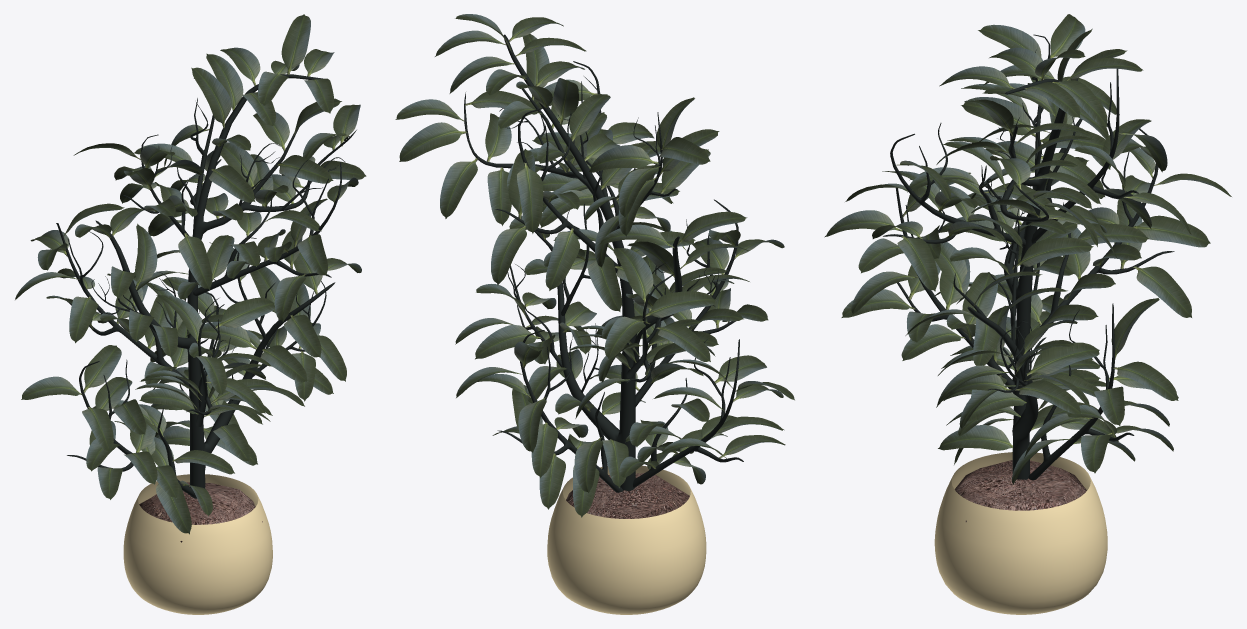
The model's file is plant.glb.
The picture shows the model from 3 angles, left to right: view 1: azimuth 30°, elevation 25°; view 2: azimuth 150°, elevation 25°; view 3: azimuth 270°, elevation 25°; orthographic projection. The views are drawn at different scales.
Visible parts, largest first — view 1: Object_10, Object_8, Object_3, Object_9, Object_7, Object_4, Object_5, Object_2, Object_6, Object_11; view 2: Object_9, Object_3, Object_10, Object_7, Object_8, Object_4, Object_2, Object_6, Object_5, Object_11; view 3: Object_3, Object_10, Object_7, Object_8, Object_9, Object_4, Object_2, Object_5, Object_11.
Part boxes in pixels (x1,y1,x2,y2): Object_10: (89,14,341,534); Object_8: (15,198,361,471); Object_3: (123,474,272,614); Object_9: (73,104,366,516); Object_7: (21,242,346,498); Object_4: (56,74,356,498); Object_5: (91,159,341,400); Object_2: (139,482,262,542); Object_6: (67,143,344,496); Object_11: (93,60,299,466); Object_9: (395,79,766,469); Object_3: (547,465,706,614); Object_10: (435,14,785,484); Object_7: (455,215,794,517); Object_8: (532,122,784,433); Object_4: (464,34,738,492); Object_2: (566,473,689,518); Object_6: (499,108,743,487); Object_5: (507,61,718,392); Object_11: (449,56,709,478); Object_3: (934,452,1107,614); Object_10: (824,28,1167,464); Object_7: (905,207,1178,484); Object_8: (845,83,1231,340); Object_9: (895,14,1191,450); Object_4: (895,34,1174,480); Object_2: (954,460,1086,522); Object_5: (883,123,1043,392); Object_11: (1010,80,1107,419).
Size of the model in its own units: 14.75 by 20.83 by 12.68.
Materials: 4 (2 with a texture image).
